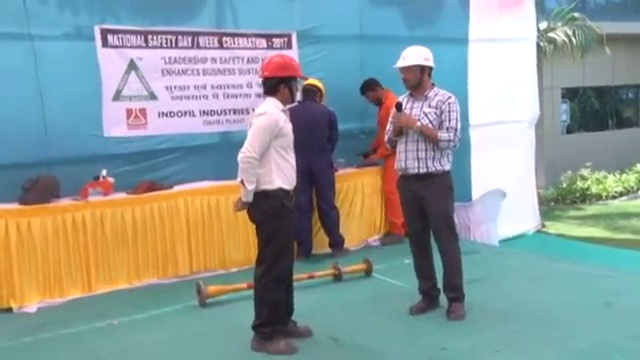helmet: (259, 53, 309, 81), (389, 45, 438, 69), (302, 76, 328, 97)
helmet_off: (360, 77, 389, 107)
helmet_on: (388, 45, 439, 101), (258, 53, 308, 109), (299, 75, 329, 106)
person: (235, 54, 315, 354), (389, 45, 468, 322), (289, 76, 350, 256), (359, 75, 407, 247)
